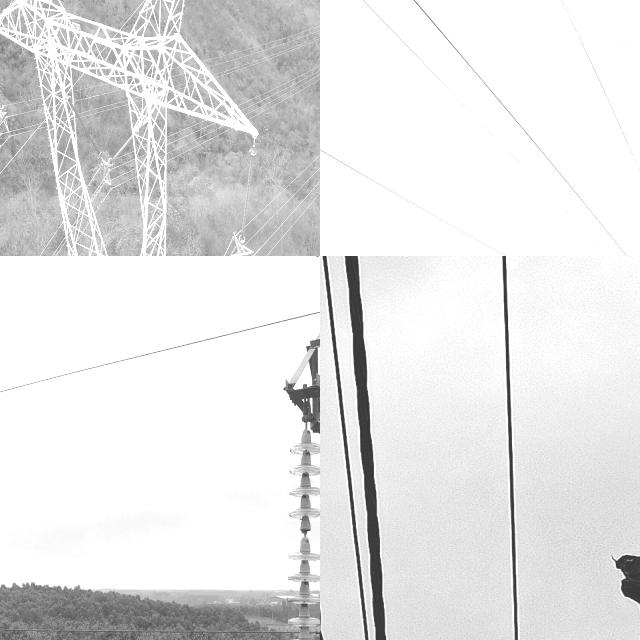杆塔: (0, 0, 262, 256)
植被遮挡: (609, 544, 640, 619)
正常电缆: (351, 0, 615, 256), (402, 0, 639, 256), (0, 308, 320, 407), (320, 133, 523, 256), (551, 0, 640, 188)
正常绝缘子: (282, 405, 320, 640), (237, 125, 259, 256), (0, 21, 20, 142)
绝缘子破损: (300, 522, 311, 546)
